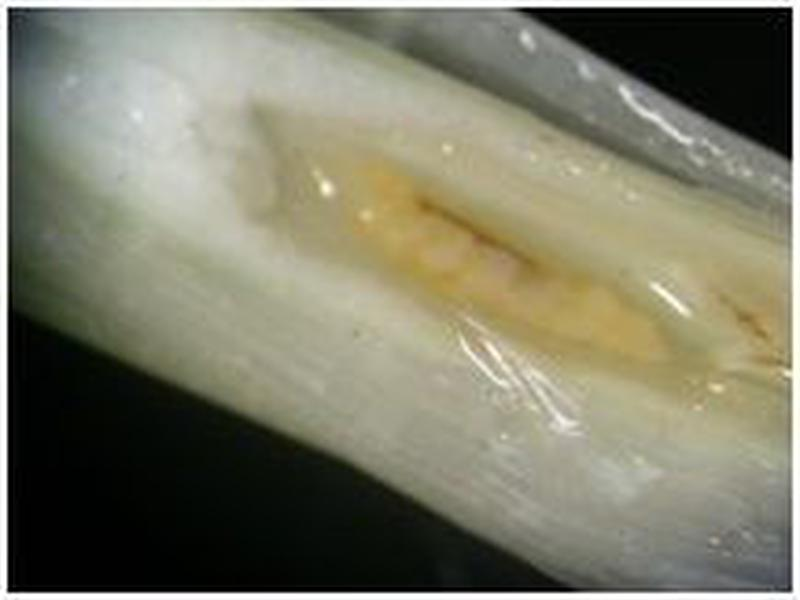Gall_midge: (306, 146, 681, 392)
